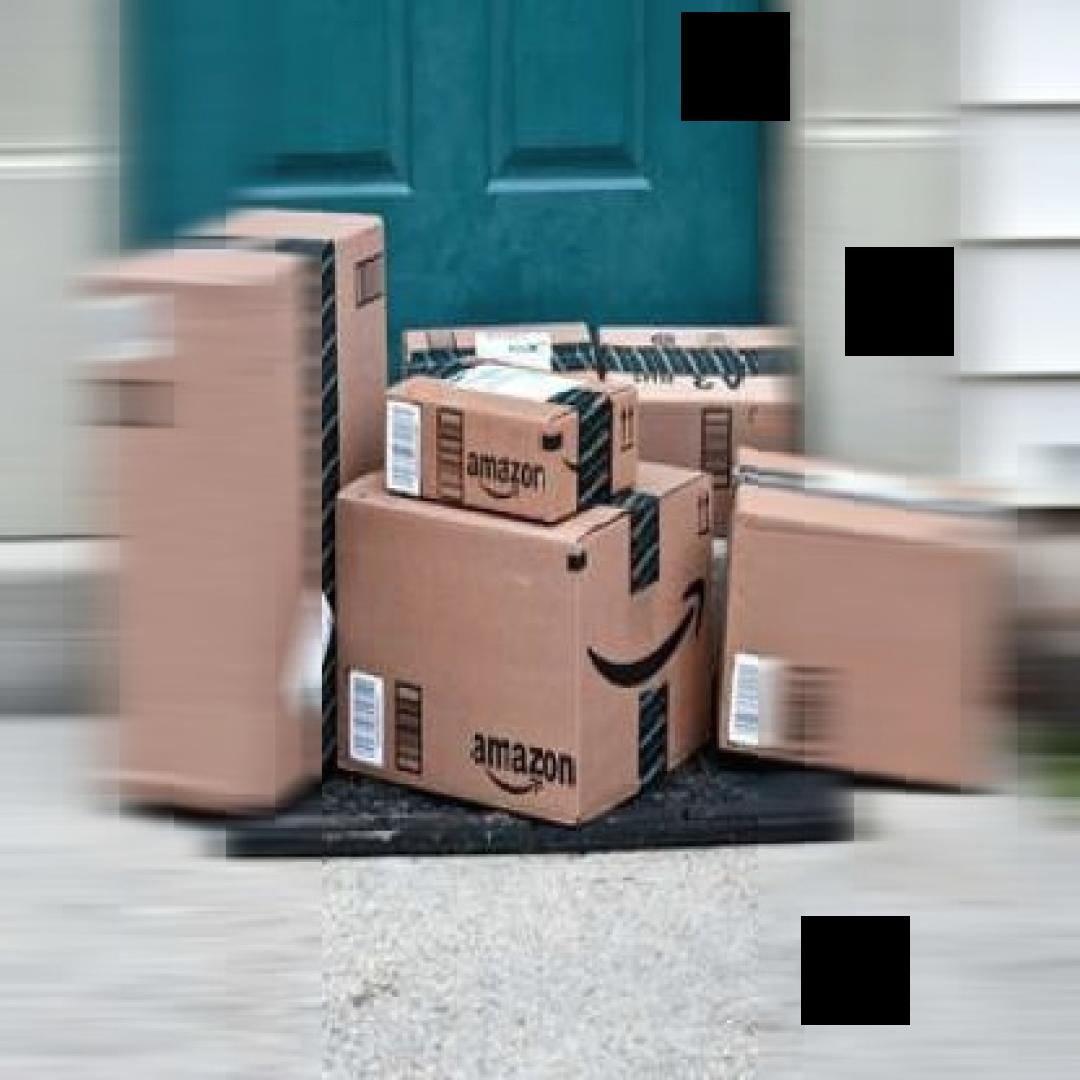package: (94, 192, 390, 826), (335, 462, 719, 826), (724, 436, 1008, 808), (368, 358, 652, 527), (592, 314, 810, 462)
